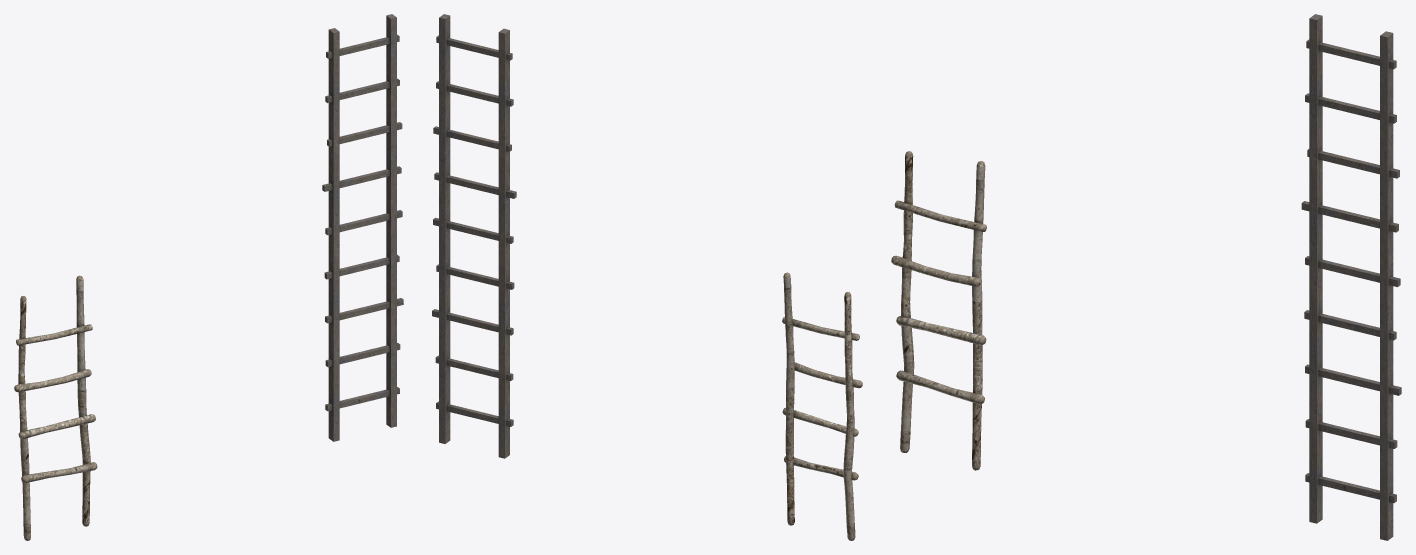
The model's file is vh_ladder.glb.
The picture shows the model from 3 angles, left to right: view 1: azimuth 30°, elevation 25°; view 2: azimuth 150°, elevation 25°; view 3: azimuth 330°, elevation 25°; orthographic projection. The views are drawn at different scales.
Parts seen in each view (by area): view 1: ladder 2, ladder; view 2: ladder 2, ladder; view 3: ladder 2, ladder.
Part boxes in pixels (<box>): ladder 2: <box>322,14,403,441</box>; ladder: <box>14,275,97,540</box>; ladder 2: <box>432,14,516,458</box>; ladder: <box>782,272,862,540</box>; ladder 2: <box>1301,14,1401,540</box>; ladder: <box>891,151,986,470</box>.
Bounding box in the file's own units: 4.47 × 4.5 × 0.3944.
Materials: 2 (2 with a texture image).
